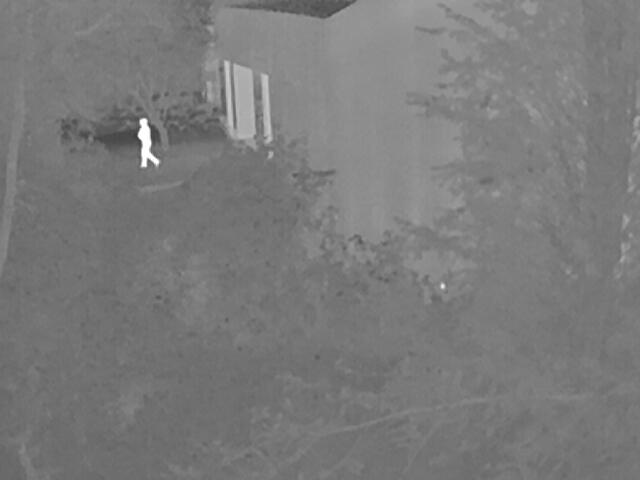person: (135, 116, 161, 166)
